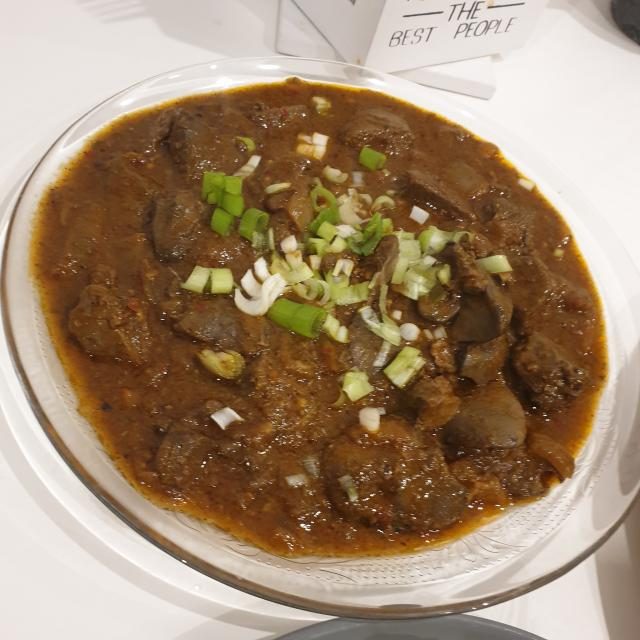kamouniya: (24, 94, 575, 577)
